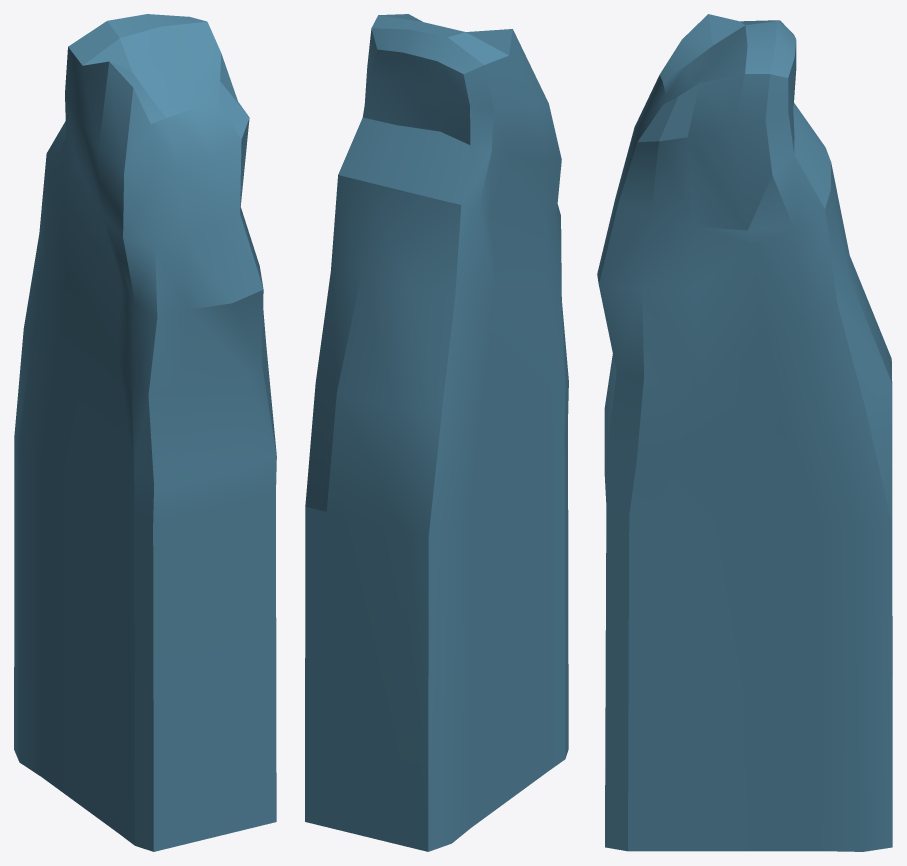
The model's file is GJ_Decor_Wall_04.fbx.
3 views of the same model, side by side, from view 1: azimuth 30°, elevation 25°; view 2: azimuth 150°, elevation 25°; view 3: azimuth 270°, elevation 25° (orthographic). The views are drawn at different scales.
Parts seen in each view (by area): view 1: GJ_Decor_Wall_04; view 2: GJ_Decor_Wall_04; view 3: GJ_Decor_Wall_04.
Part boxes in pixels (x1,y1,x2,y2): GJ_Decor_Wall_04: (14, 14, 276, 851); GJ_Decor_Wall_04: (305, 14, 568, 851); GJ_Decor_Wall_04: (597, 14, 892, 851).
Bounding box in the file's own units: 3.46 × 16.99 × 5.81.
